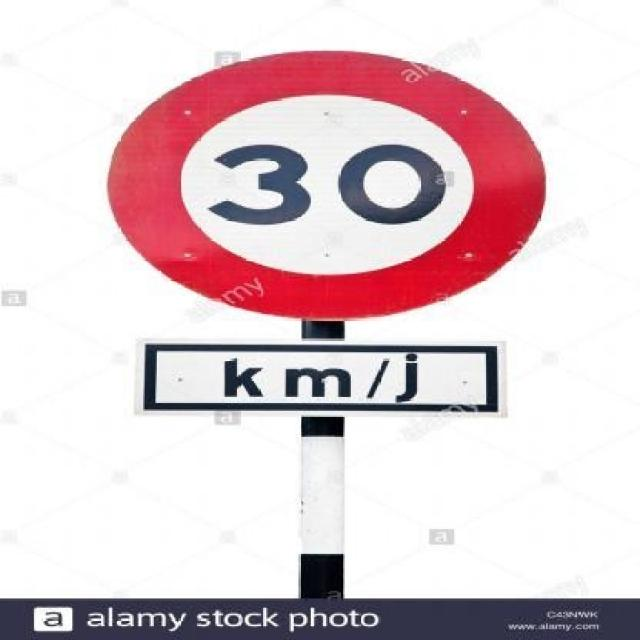forb_speed_over_30: (112, 45, 546, 319)
